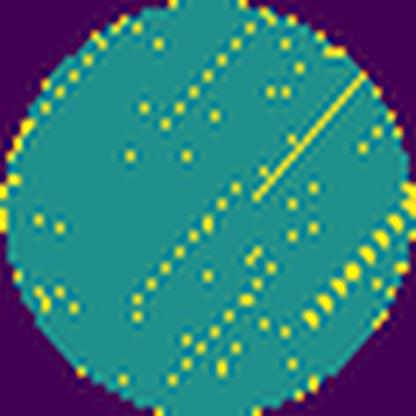Scratch: (161, 254, 285, 393), (124, 177, 244, 313), (252, 73, 366, 204), (300, 204, 406, 334), (156, 18, 260, 132)
